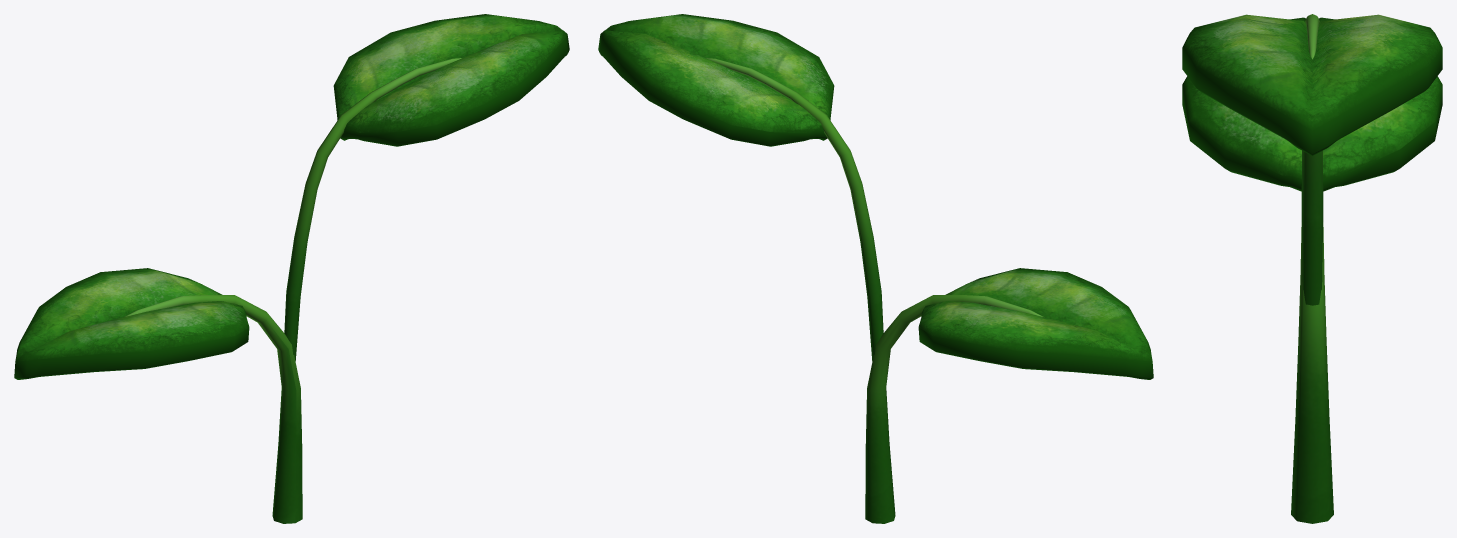
File: Plantinha1.fbx
3 renders of one model, left to right at view 1: azimuth 30°, elevation 25°; view 2: azimuth 150°, elevation 25°; view 3: azimuth 270°, elevation 25°, orthographic. The views are drawn at different scales.
Visible parts, largest first — view 1: Folhas1; view 2: Folhas1; view 3: Folhas1.
Part boxes in pixels (x1,y1,x2,y2): Folhas1: (14,14,569,523); Folhas1: (598,14,1153,523); Folhas1: (1182,14,1442,523).
Size of the model in its own units: 352 by 262 by 104.
